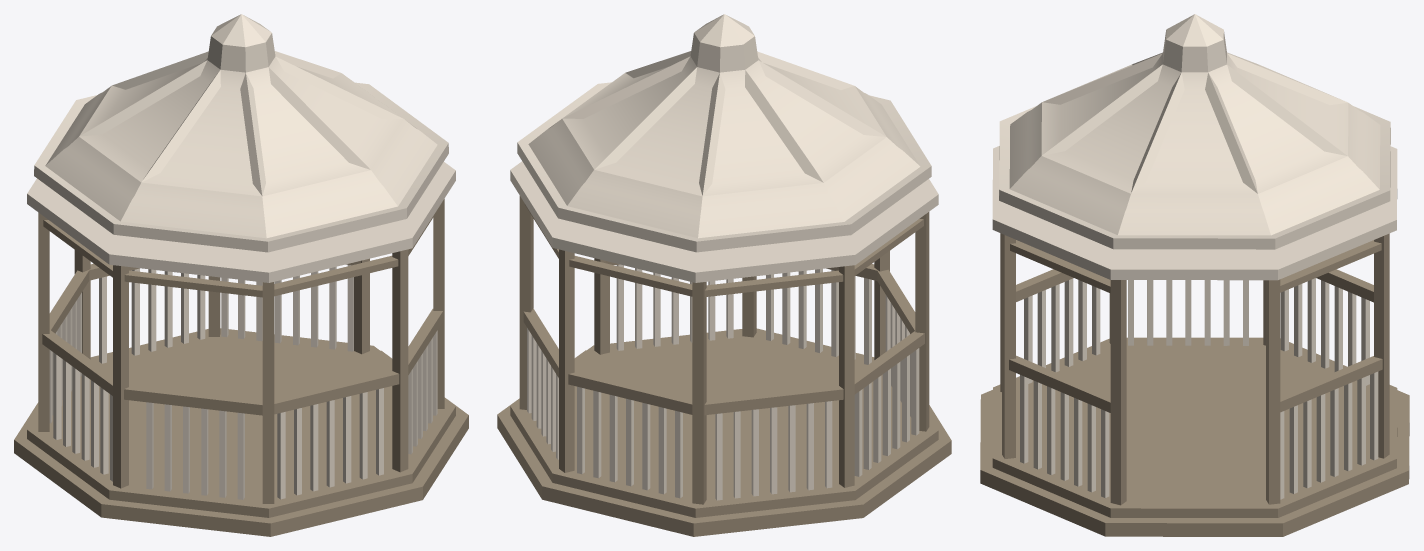
Rendered from gazebo_v03.fbx.
The picture shows the model from 3 angles, left to right: view 1: azimuth 30°, elevation 25°; view 2: azimuth 150°, elevation 25°; view 3: azimuth 270°, elevation 25°; orthographic projection.
Parts seen in each view (by area): view 1: TOP, Base2, Railing_pegs, Beams, Roof, Base1, Railing, Railing_1; view 2: TOP, Base2, Railing_pegs, Beams, Roof, Base1, Railing, Railing_1; view 3: TOP, Base2, Railing_pegs, Roof, Beams, Base1, Railing, Railing_1.
Boxes of the visible parts, x1,y1,x2,y2 form: TOP: [34, 14, 448, 252]; Base2: [27, 328, 455, 517]; Railing_pegs: [49, 265, 437, 499]; Beams: [38, 199, 444, 503]; Roof: [27, 162, 455, 282]; Base1: [14, 350, 468, 536]; Railing: [42, 261, 443, 415]; Railing_1: [43, 202, 442, 297]; TOP: [517, 14, 931, 252]; Base2: [510, 328, 938, 517]; Railing_pegs: [527, 264, 919, 500]; Beams: [519, 196, 929, 504]; Roof: [510, 161, 938, 282]; Base1: [497, 350, 951, 536]; Railing: [523, 261, 924, 415]; Railing_1: [524, 204, 923, 296]; TOP: [999, 14, 1390, 249]; Base2: [992, 337, 1397, 517]; Railing_pegs: [1020, 278, 1378, 499]; Roof: [992, 146, 1397, 280]; Beams: [1000, 233, 1389, 505]; Base1: [980, 390, 1409, 536]; Railing: [1009, 269, 1382, 412]; Railing_1: [1010, 240, 1381, 293].
Bounding box in the file's own units: 370 × 411 × 370.
